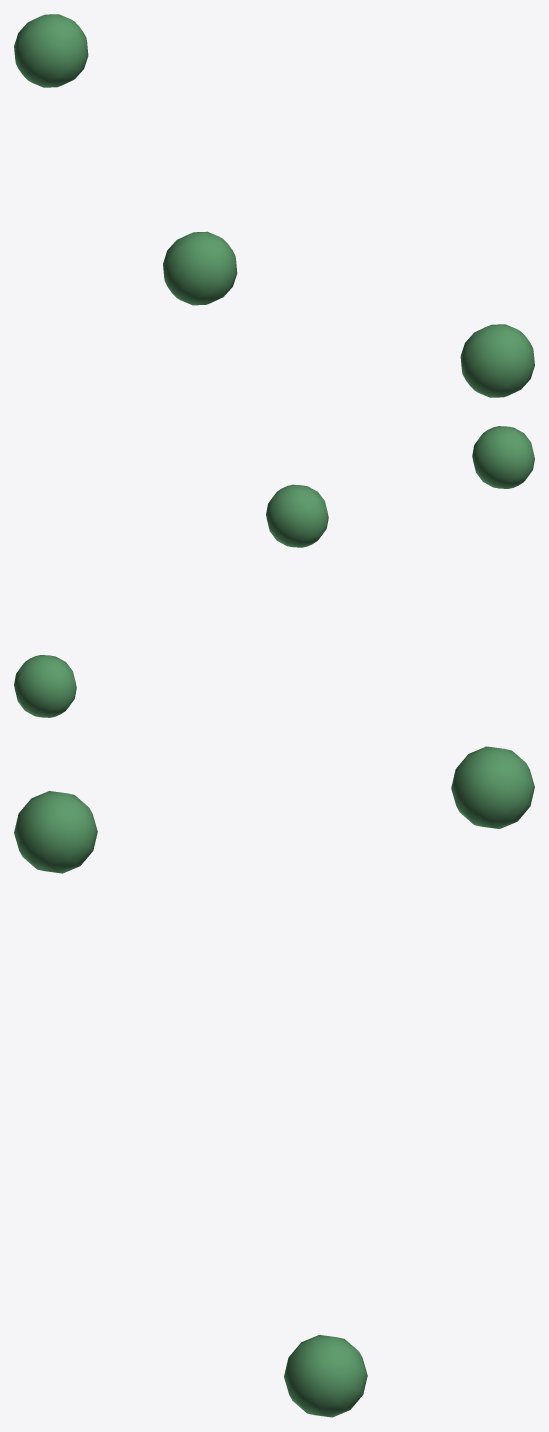
3 views of the same model, one above another, from view 1: azimuth 30°, elevation 25°; view 2: azimuth 150°, elevation 25°; view 3: azimuth 270°, elevation 25° (orthographic). The views are drawn at different scales.
Parts seen in each view (by area): view 1: 右侧下颌淋巴结; view 2: 右侧下颌淋巴结; view 3: 右侧下颌淋巴结.
Boxes of the visible parts, x1=… form: 右侧下颌淋巴结: x1=14, y1=14, x2=534, y2=397; 右侧下颌淋巴结: x1=14, y1=426, x2=534, y2=717; 右侧下颌淋巴结: x1=14, y1=746, x2=534, y2=1417.
Bounding box in the file's own units: 0.0284 × 0.0232 × 0.0238.
